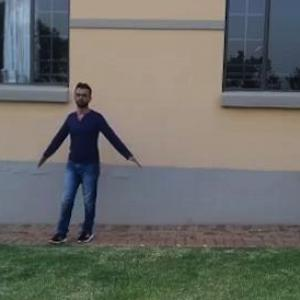land: (39, 89, 142, 248)
